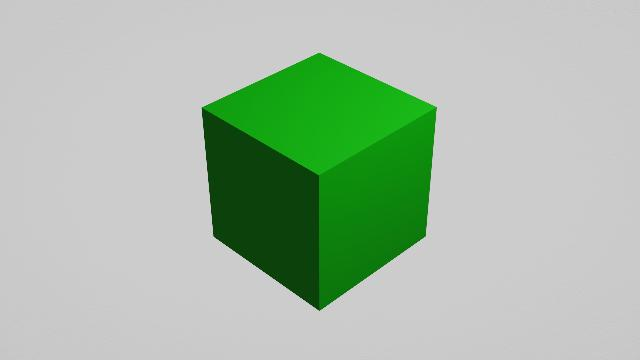Cube: (189, 47, 455, 316)
